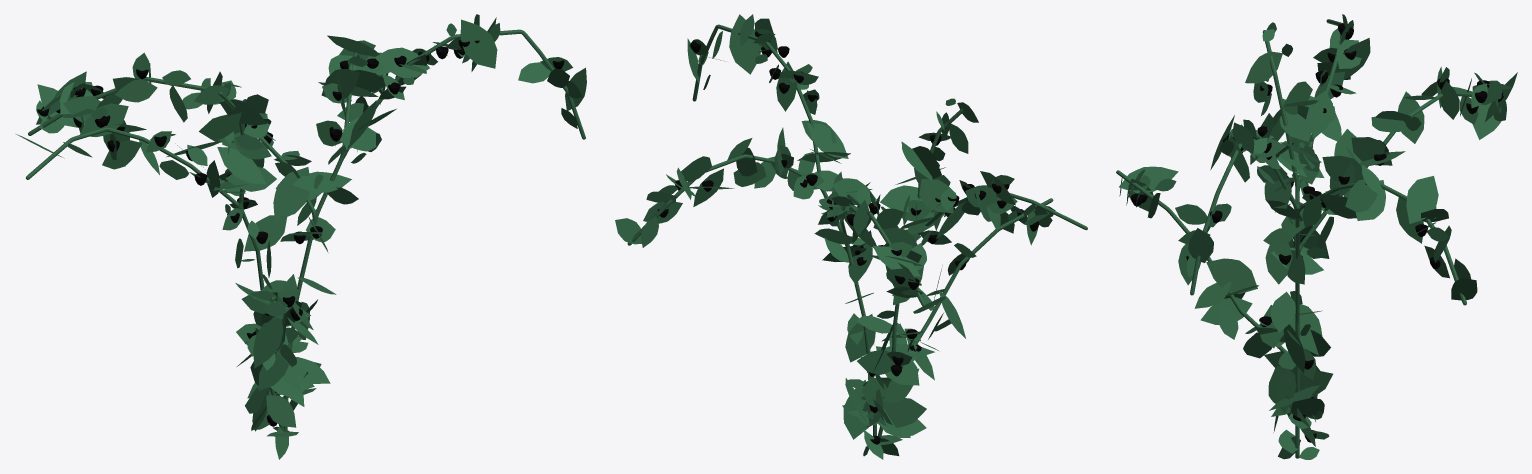
The model's file is mod_vg_murierM.fbx.
The picture shows the model from 3 angles, left to right: view 1: azimuth 30°, elevation 25°; view 2: azimuth 150°, elevation 25°; view 3: azimuth 270°, elevation 25°; orthographic projection. The views are drawn at different scales.
Visible parts, largest first — view 1: Murier; view 2: Murier; view 3: Murier.
Boxes of the visible parts, left/top/right/bottom form: Murier: left=16, top=14, right=586, bottom=459; Murier: left=615, top=14, right=1087, bottom=459; Murier: left=1116, top=14, right=1517, bottom=459.
Size of the model in its own units: 265 by 213 by 183.
